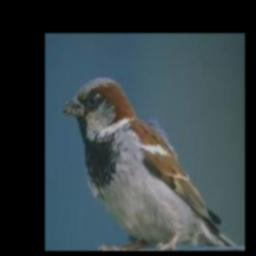Sparrow: (59, 77, 238, 250)
